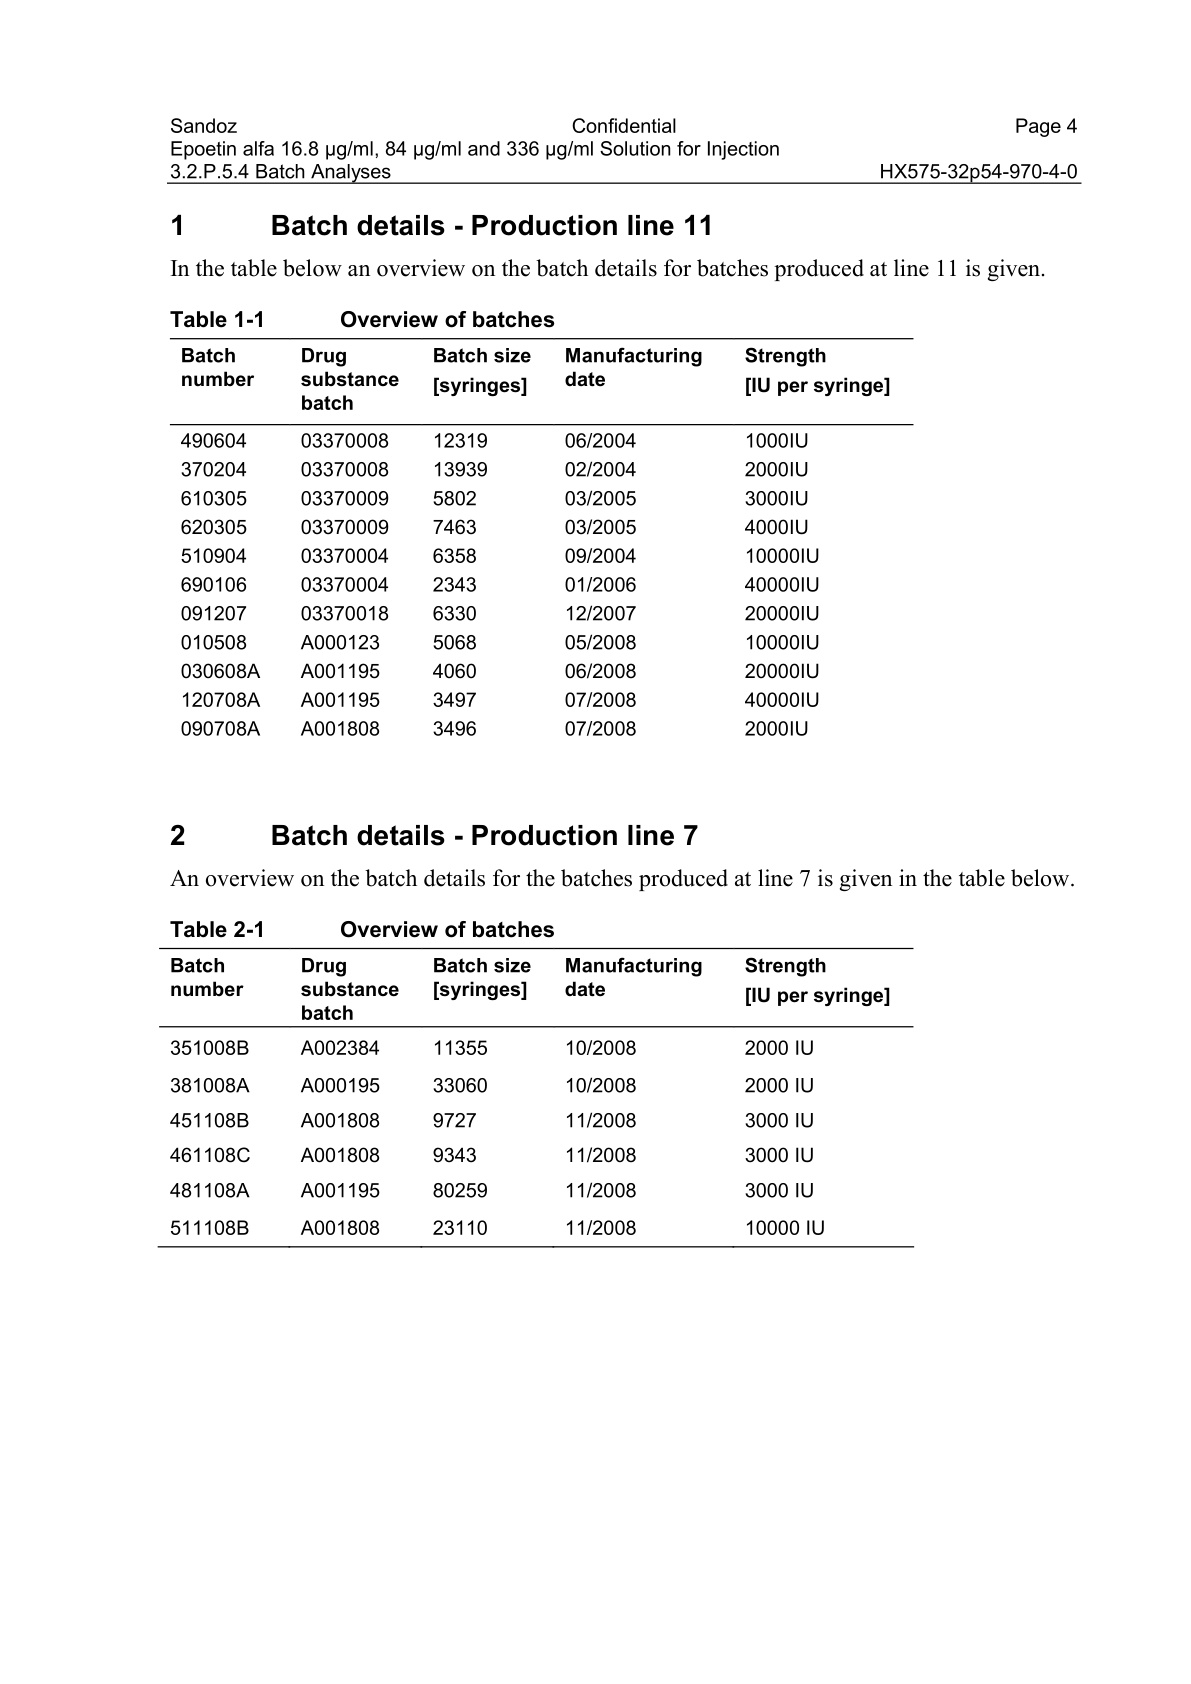partial_lined: (175, 338, 915, 743), (162, 948, 915, 1252)
